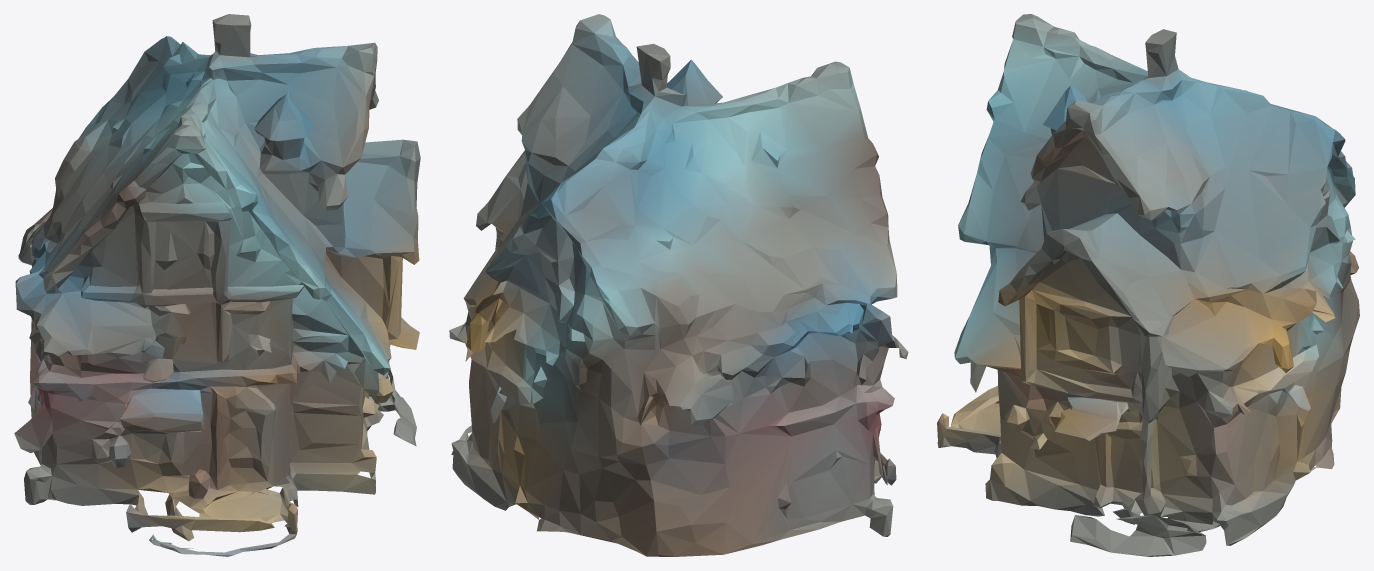
Rendered from koymeydani.glb.
3 views of the same model, side by side, from view 1: azimuth 30°, elevation 25°; view 2: azimuth 150°, elevation 25°; view 3: azimuth 270°, elevation 25° (orthographic). The views are drawn at different scales.
Parts seen in each view (by area): view 1: geometry_0; view 2: geometry_0; view 3: geometry_0.
Boxes of the visible parts, bbox=[...] form: geometry_0: bbox=[14, 14, 420, 556]; geometry_0: bbox=[449, 14, 908, 556]; geometry_0: bbox=[937, 14, 1359, 556].
Bounding box in the file's own units: 0.956 × 1 × 0.8601.
